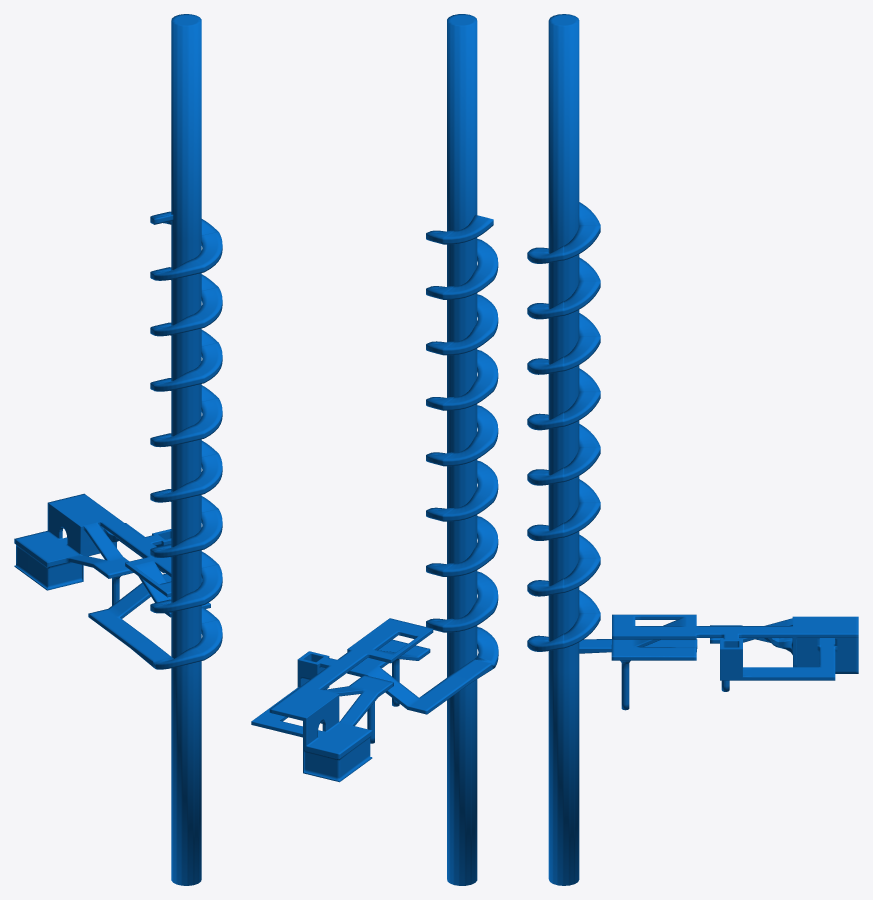
File: Proto_World_1_HP.obj
3 renders of one model, left to right at view 1: azimuth 30°, elevation 25°; view 2: azimuth 150°, elevation 25°; view 3: azimuth 270°, elevation 25°, orthographic.
Parts seen in each view (by area): view 1: LevelBase; view 2: LevelBase; view 3: LevelBase.
Part boxes in pixels (x1,y1,x2,y2): LevelBase: (14, 14, 222, 885); LevelBase: (251, 14, 498, 885); LevelBase: (527, 14, 858, 885).
Bounding box in the file's own units: 32.13 × 246 × 86.08.
